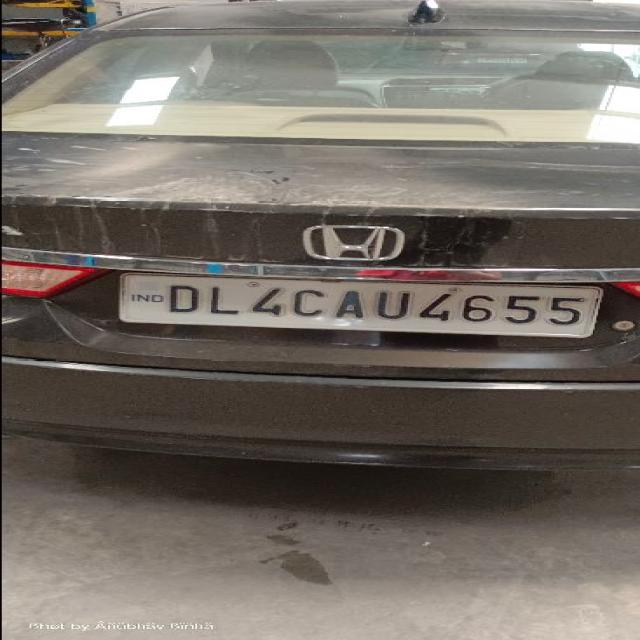license_plate: (115, 271, 603, 338)
